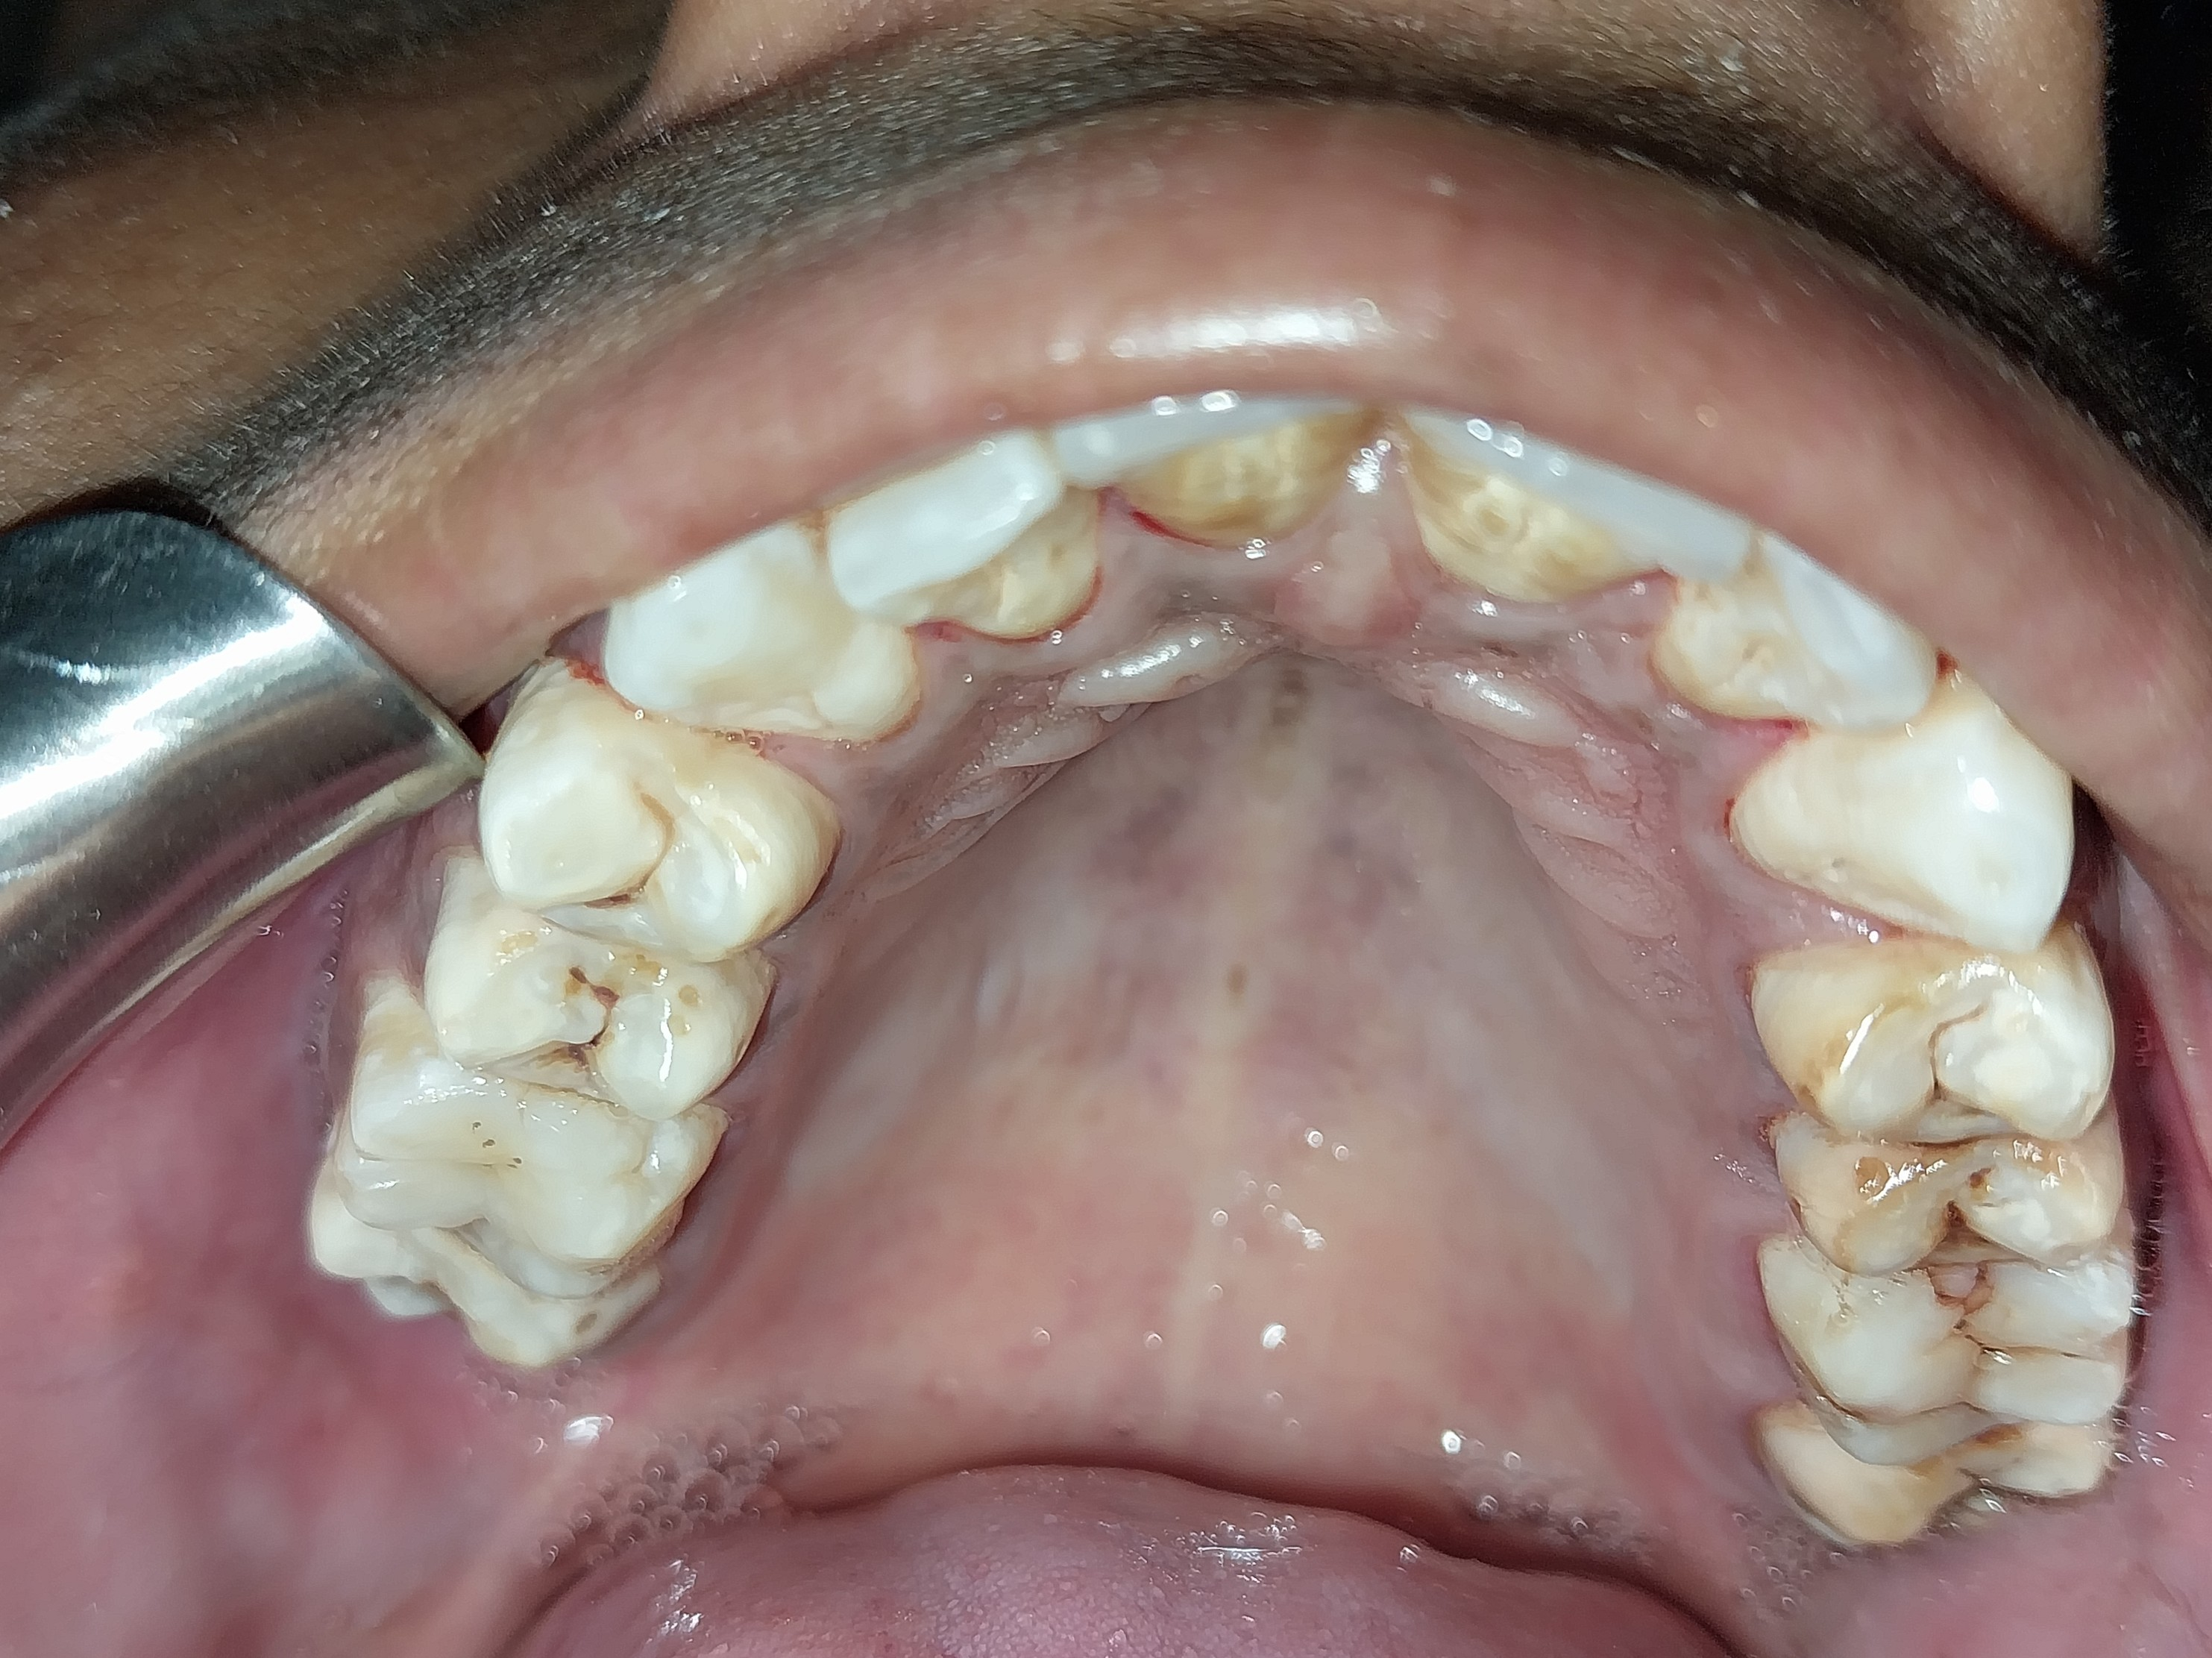D: (421, 863, 779, 1127), (474, 689, 826, 957), (1752, 1222, 2128, 1460), (1741, 934, 2115, 1150), (1762, 1108, 2123, 1274)
